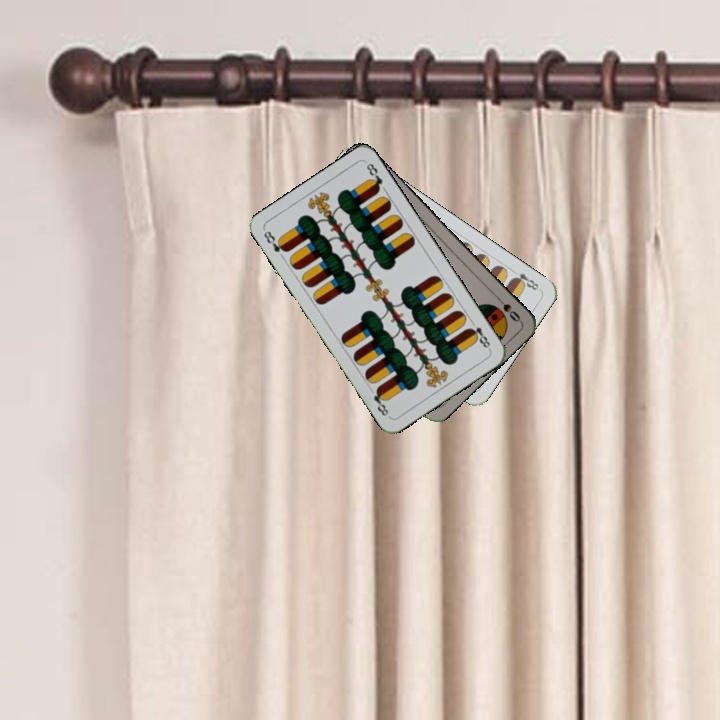E8: (464, 316, 493, 352), (507, 265, 541, 293), (259, 227, 290, 255)
SO: (491, 291, 523, 325)
